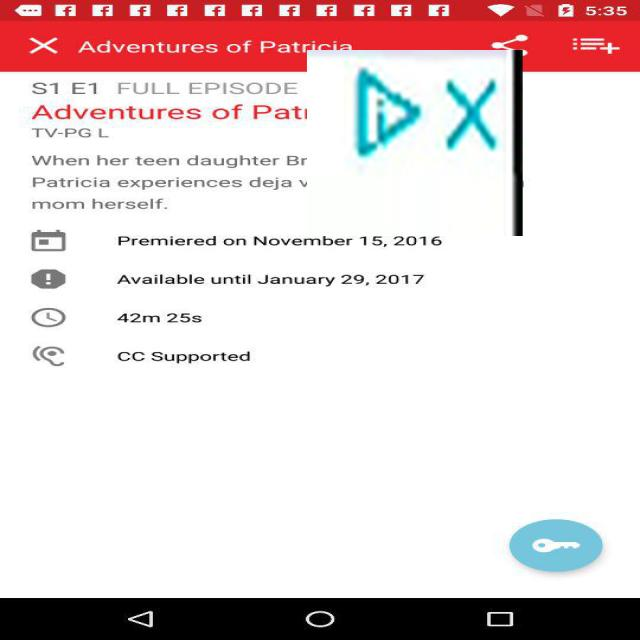sneaking: (307, 50, 523, 236)
